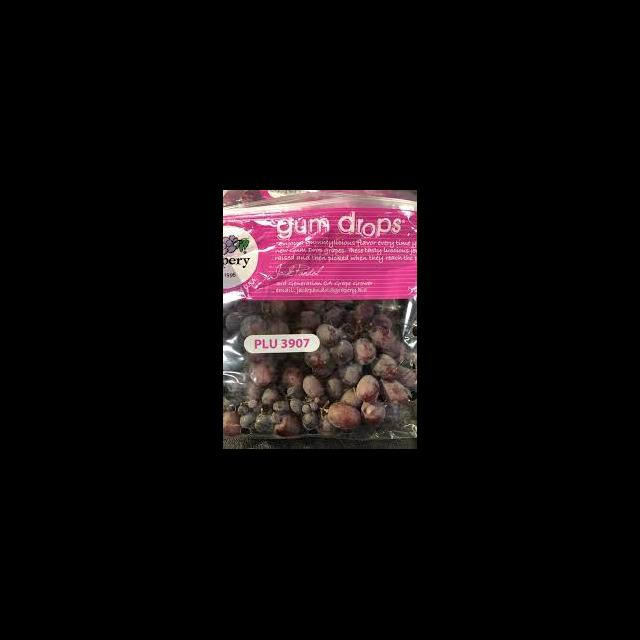grape: (223, 299, 416, 436)
